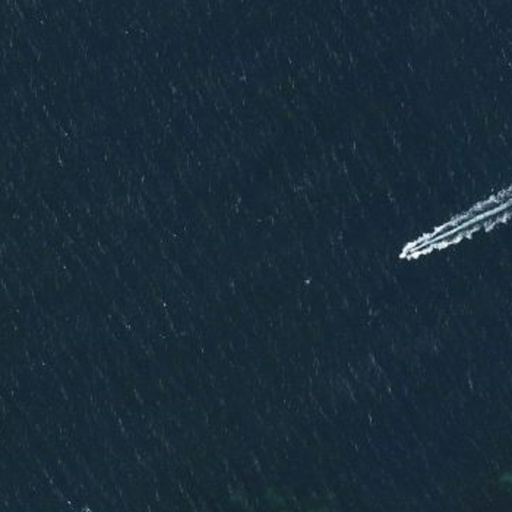ship: (396, 242, 431, 263)
